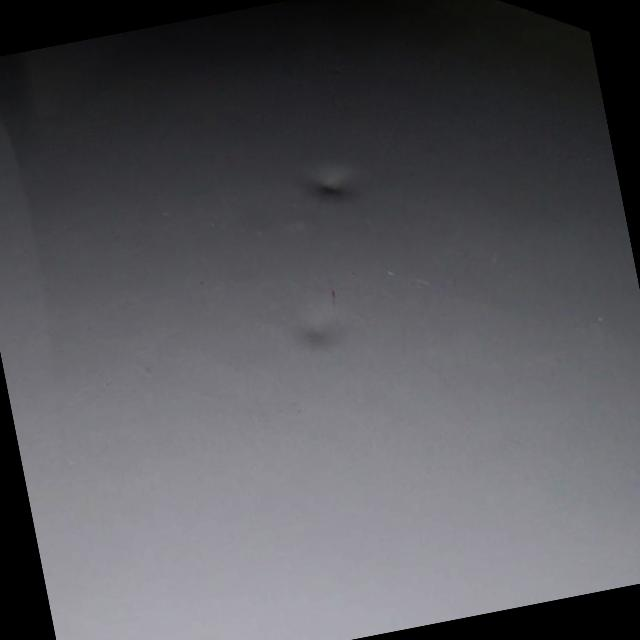dent: (272, 284, 358, 374), (292, 143, 379, 218)
